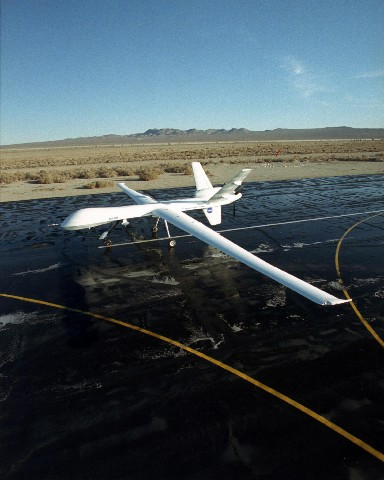maybay_khongnguoilai: (53, 162, 350, 314)
